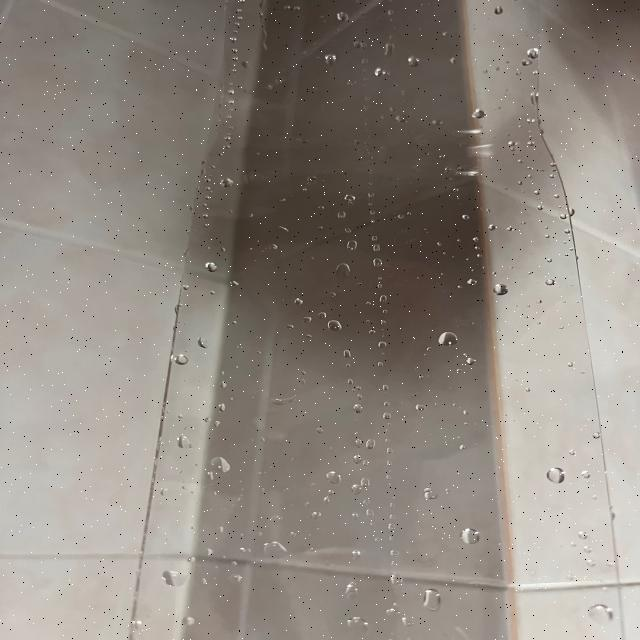raindrop: (422, 587, 458, 619), (538, 461, 576, 486), (452, 524, 486, 544), (161, 566, 187, 592), (389, 568, 415, 592), (210, 453, 237, 476), (192, 333, 219, 356), (176, 432, 206, 452), (482, 282, 505, 306), (344, 579, 373, 597), (171, 618, 204, 633), (269, 540, 289, 564), (319, 51, 344, 70), (432, 332, 458, 350), (169, 346, 191, 367), (376, 37, 396, 59), (343, 34, 367, 52), (481, 218, 504, 236), (350, 483, 375, 498), (541, 274, 563, 291), (218, 169, 232, 195), (405, 398, 429, 413), (596, 599, 614, 618), (361, 438, 387, 451), (336, 614, 366, 625), (514, 386, 538, 399), (523, 44, 541, 61), (370, 68, 391, 82), (337, 11, 358, 25), (468, 110, 492, 122), (514, 55, 536, 68), (322, 322, 348, 333), (502, 222, 521, 237), (341, 238, 360, 253), (578, 528, 598, 542), (335, 261, 355, 275), (519, 94, 536, 110), (464, 355, 482, 370), (352, 402, 370, 417), (373, 260, 395, 272), (348, 455, 368, 468), (504, 134, 522, 148), (345, 542, 363, 556), (200, 260, 218, 274), (580, 468, 600, 480), (458, 167, 482, 177), (341, 191, 358, 203), (324, 472, 344, 482), (385, 601, 397, 617), (208, 400, 225, 411), (406, 59, 419, 73), (343, 344, 355, 358), (491, 5, 506, 16), (222, 131, 235, 141), (397, 118, 413, 126), (376, 341, 390, 350)
